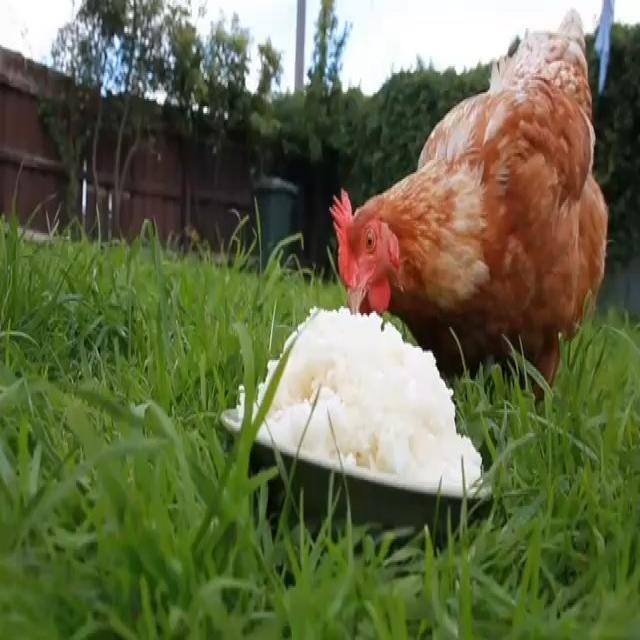feeding: (331, 8, 609, 369)
